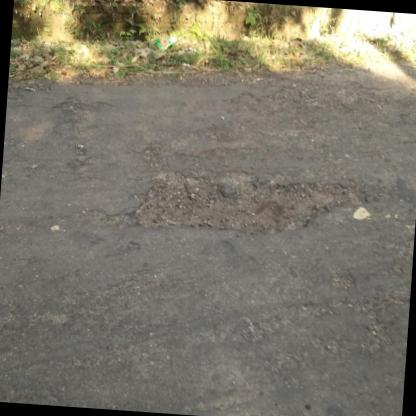pothole: (127, 162, 370, 249), (53, 95, 110, 114)
